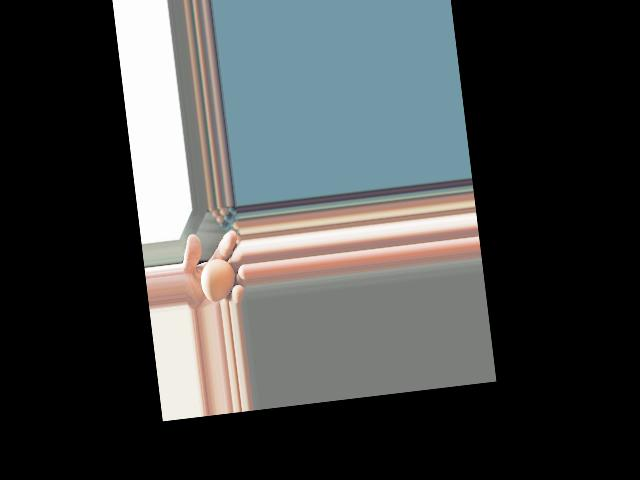egg: (199, 257, 238, 304)
